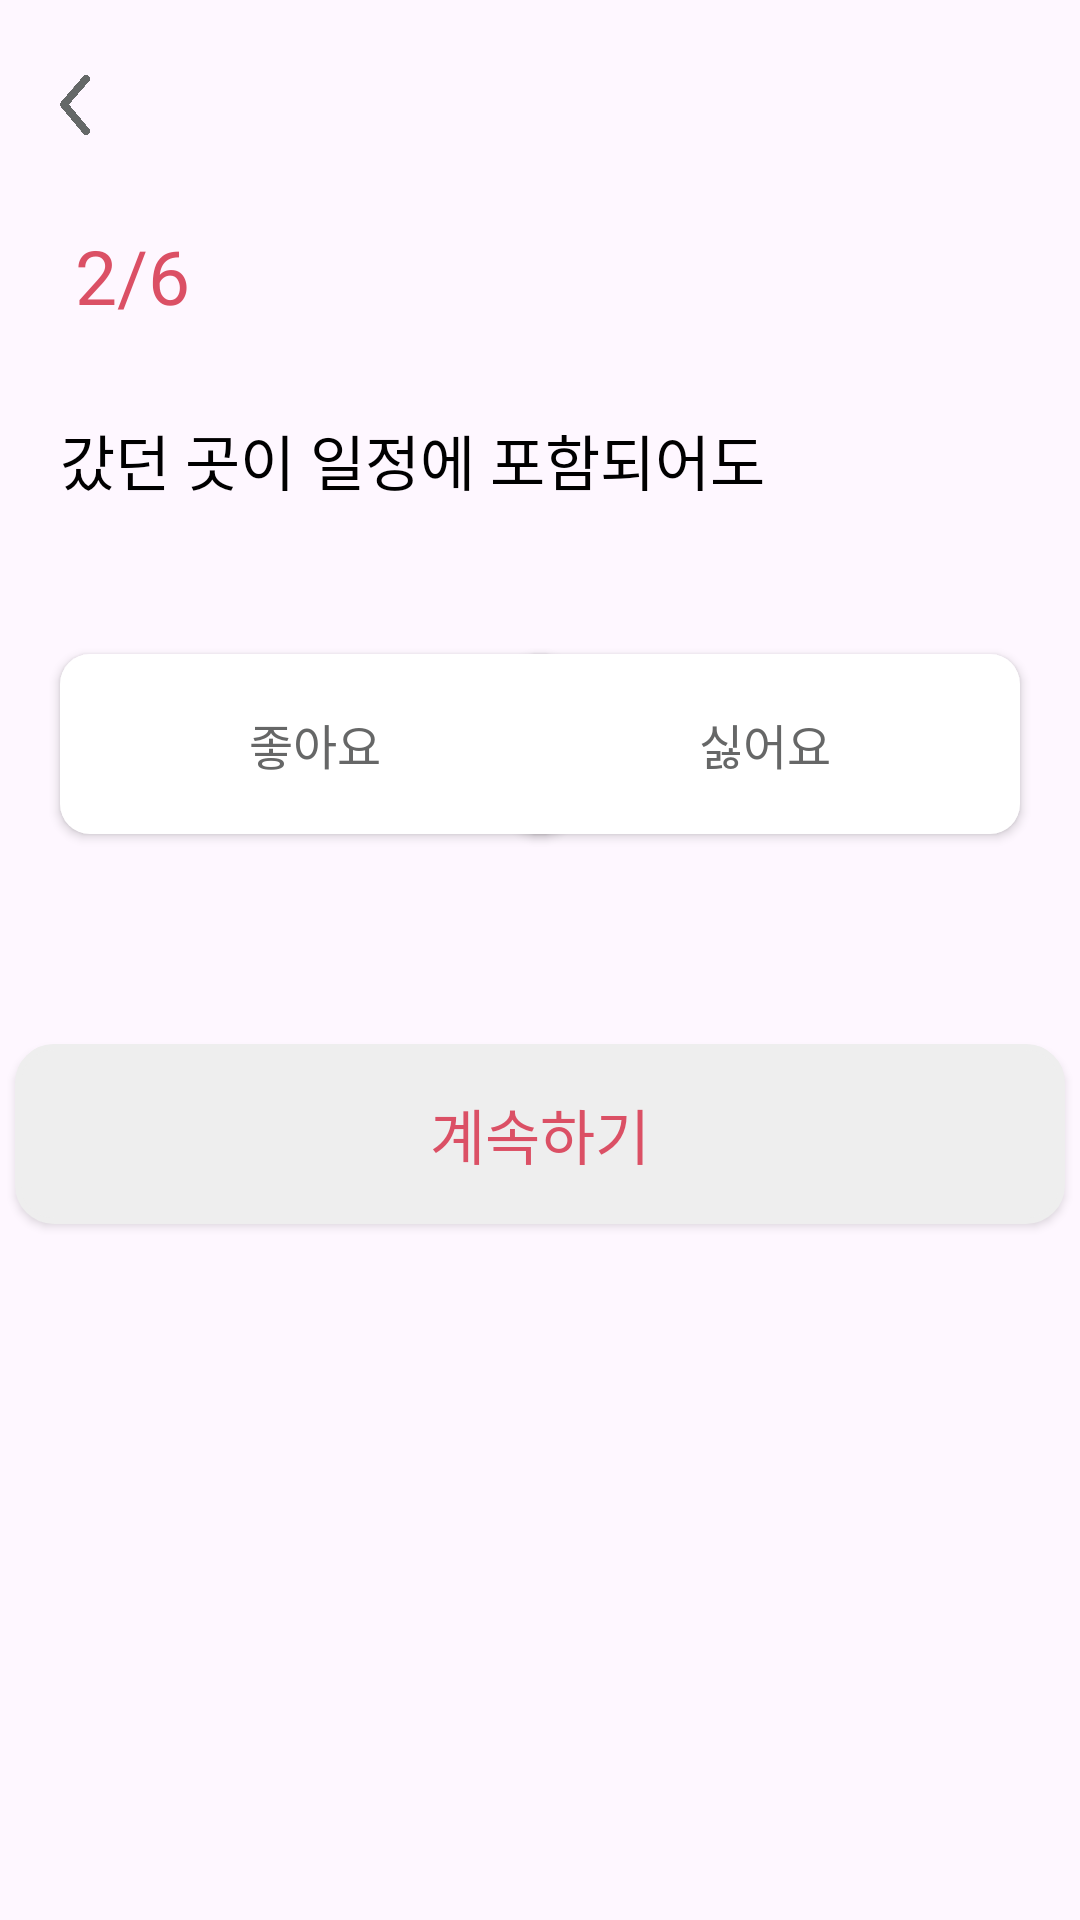

Screen size 1080px x 1920px. Icon name, then its box in pixels as (x1, y1, x2, y2):
wlsback: (60, 75, 90, 135)
